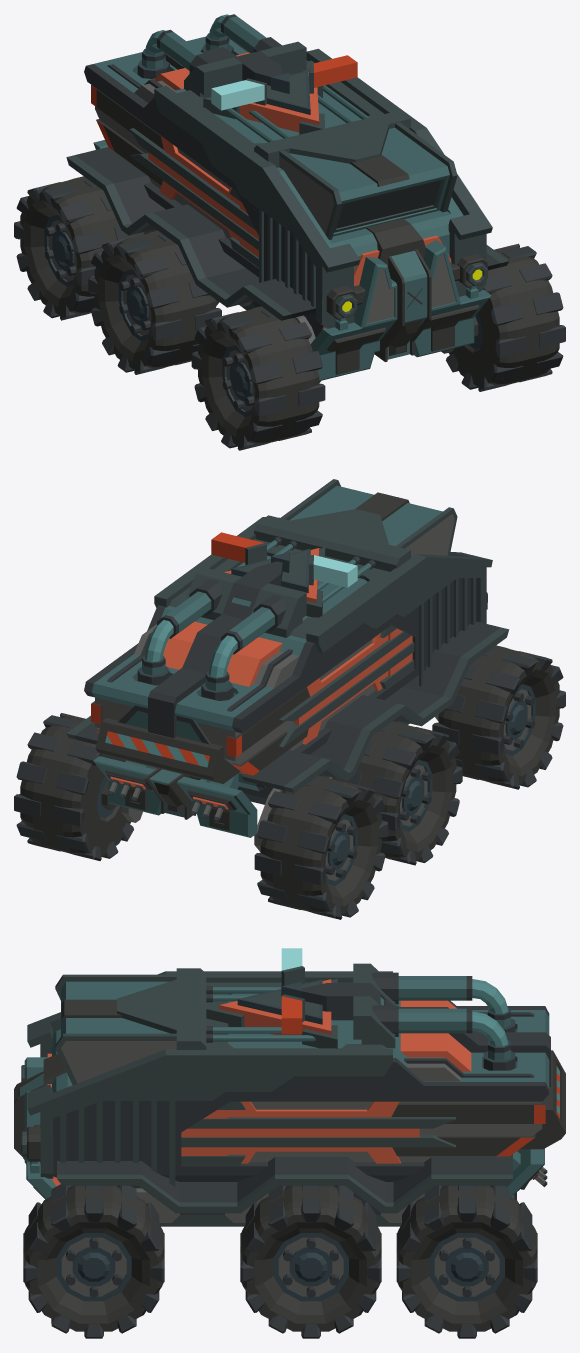
Rendered from TP_Sci-fi09.fbx.
3 renders of one model, top to bottom at view 1: azimuth 30°, elevation 25°; view 2: azimuth 150°, elevation 25°; view 3: azimuth 270°, elevation 25°, orthographic. The views are drawn at different scales.
Visible parts, largest first — view 1: TP_Sci_fi09; view 2: TP_Sci_fi09; view 3: TP_Sci_fi09.
Boxes of the visible parts, box(x1,y1,x2,y2) form: TP_Sci_fi09: box(14, 14, 565, 450); TP_Sci_fi09: box(14, 479, 565, 919); TP_Sci_fi09: box(14, 948, 565, 1338).
Size of the model in its own units: 237 by 193 by 349.
Materials: 1 (1 with a texture image).
